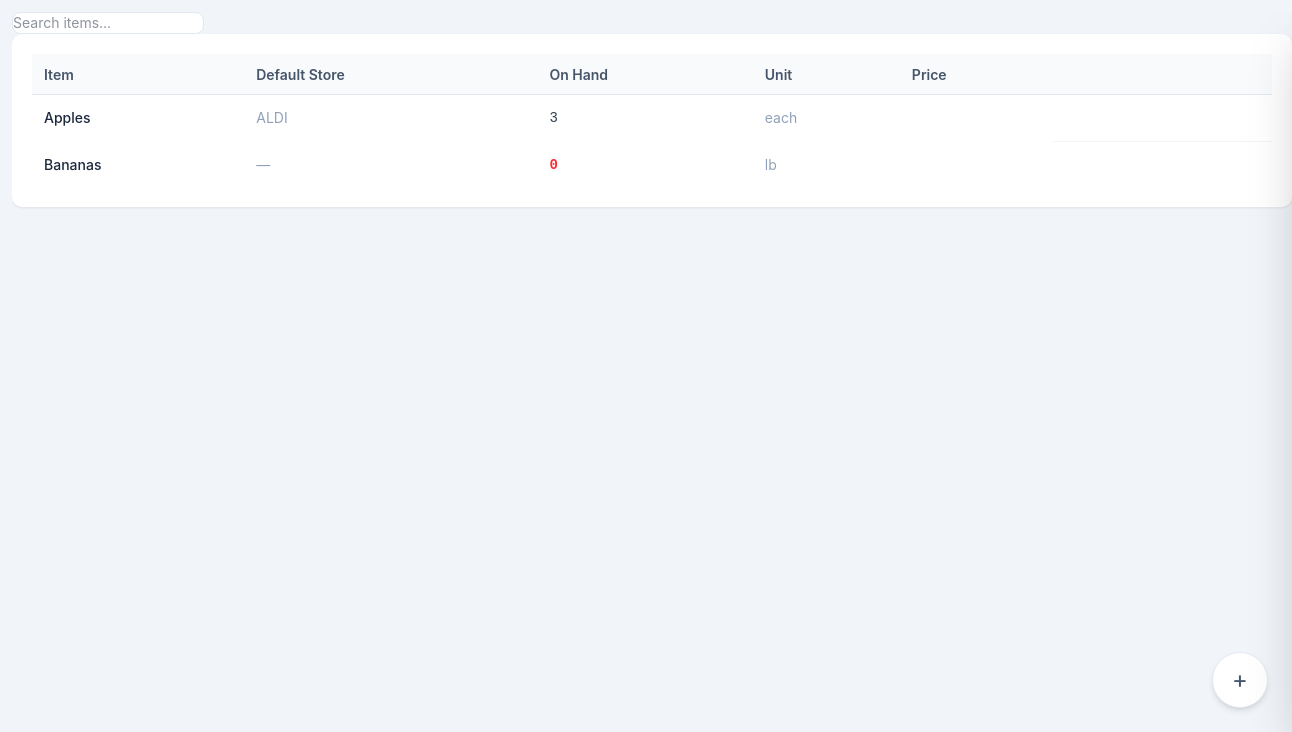
OnHandView — search › filters items by search text
Check: the text "Apples" is shown, box [32,95,244,141]
Type "app" into the search field with placeholder "Search items…".
click(108, 23); type("app")  # box [12,12,204,34]
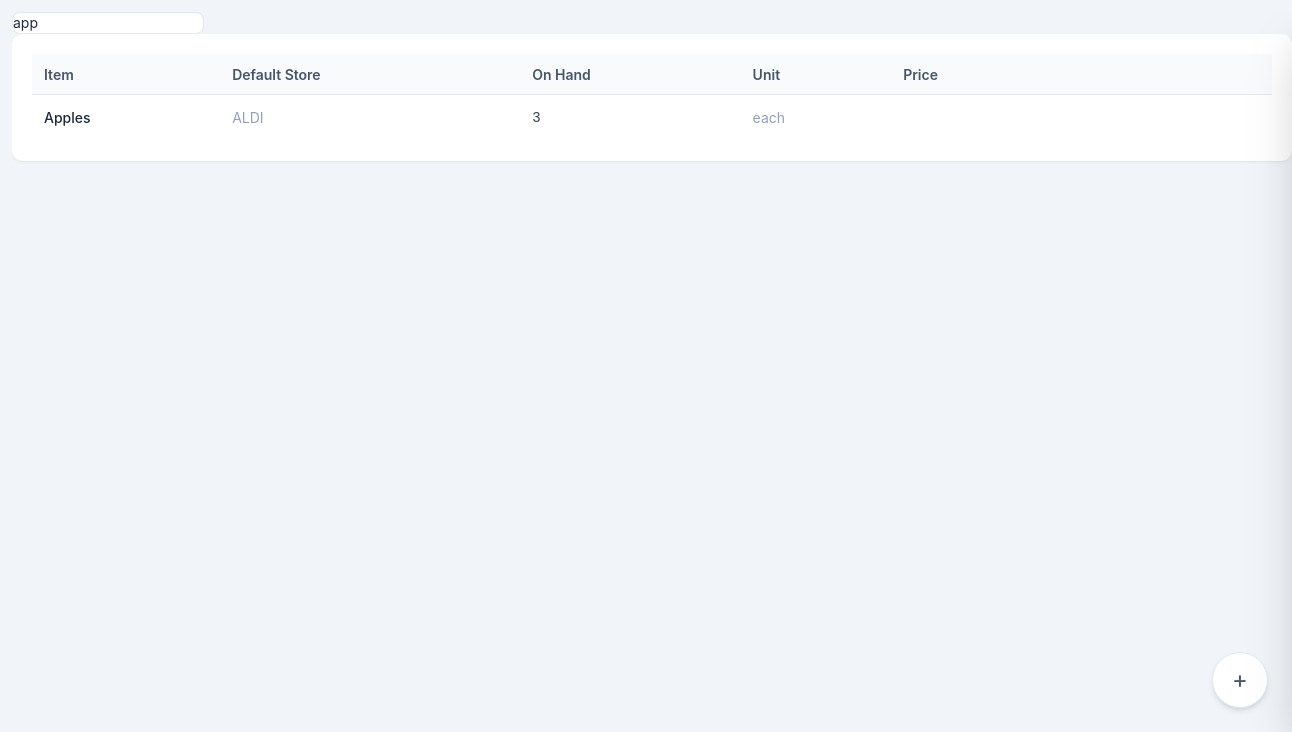
Check: the text "Apples" is shown, box [32,95,220,141]
Check: the text "Bananas" is gone
